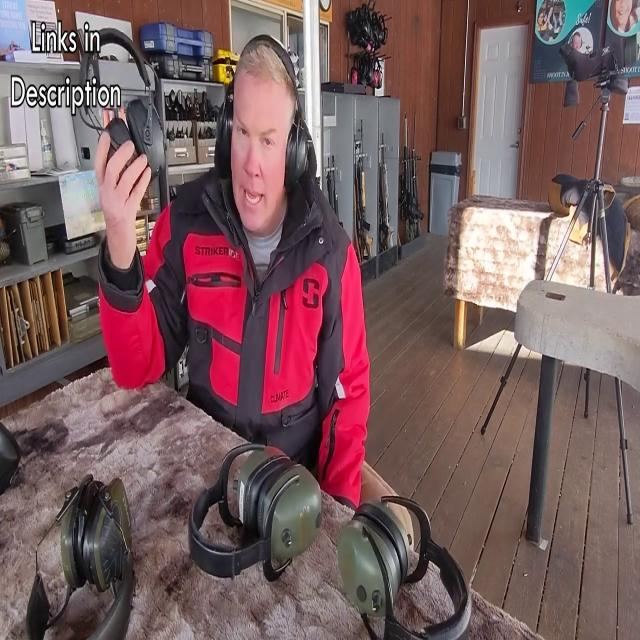earmuff: (284, 116, 316, 198), (214, 96, 236, 178)
